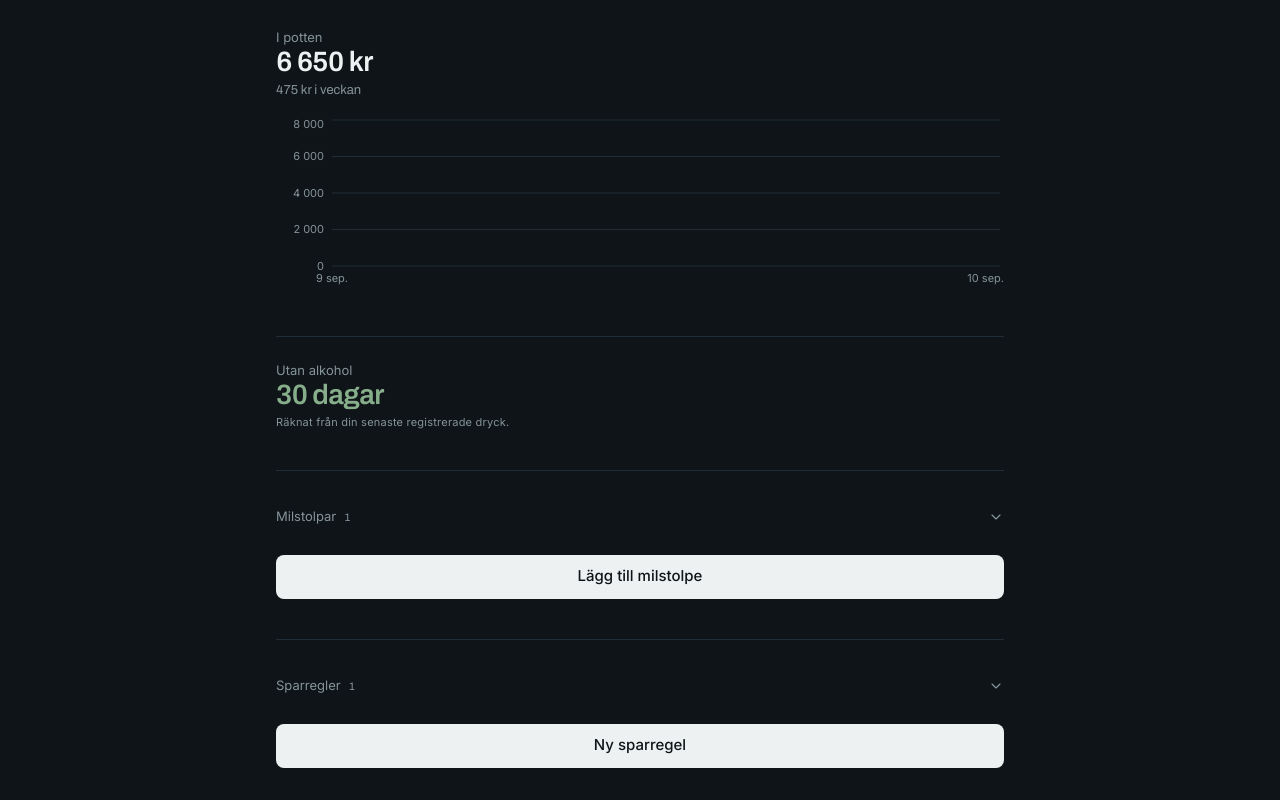
Framsteg › puts the create forms behind buttons, outside the folds
The width and height of the screenshot is (1280, 800).
(page scrolled)
Click the button with test id "open-milestone-form". click: point(640, 577)
box: [276,555,1004,599]
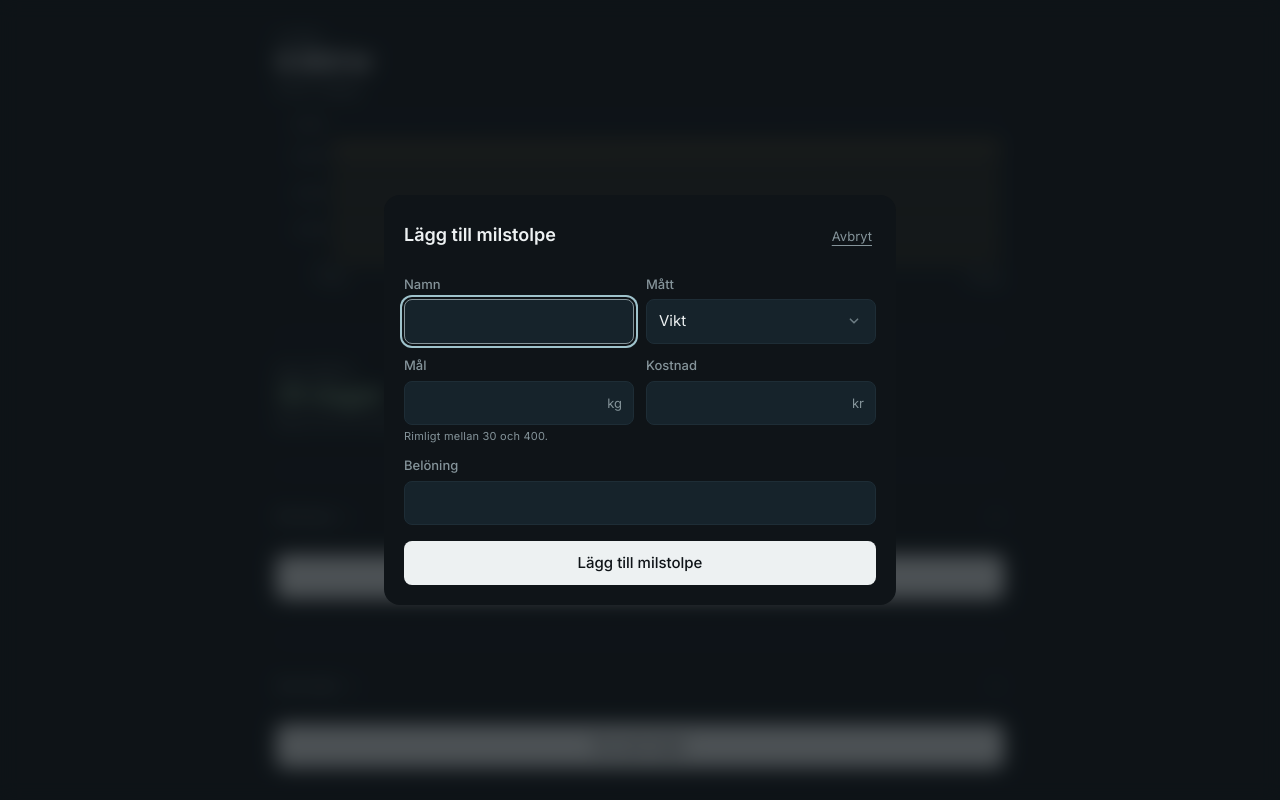
Expected: the button with test id "add-milestone" is shown, [404,541,876,585]
